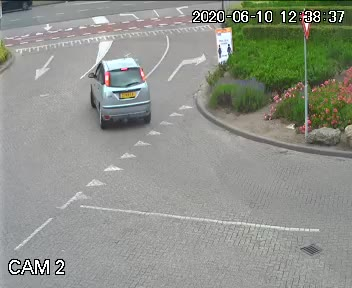car: (80, 57, 163, 125)
